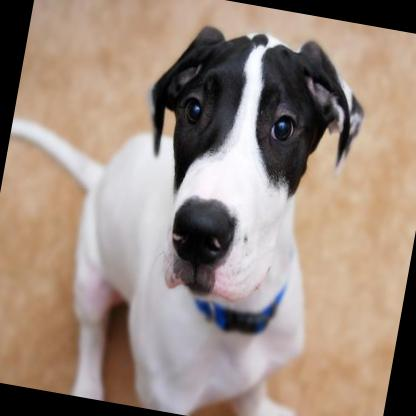Great_Dane: (0, 0, 374, 416)
